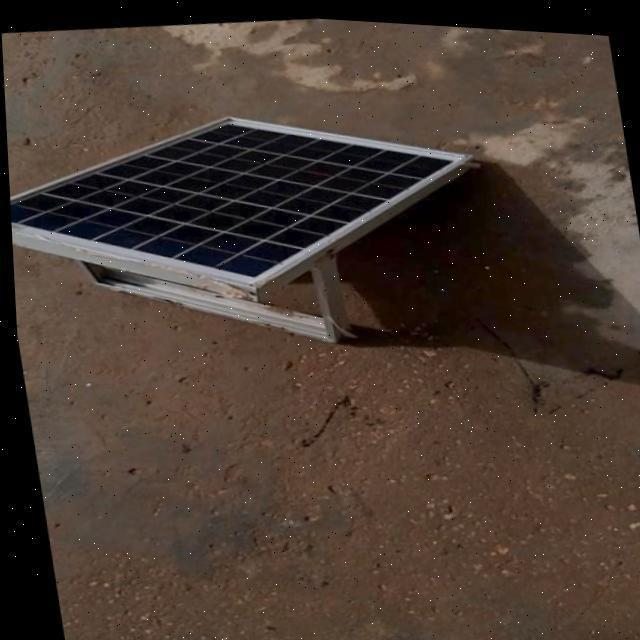Normal Solar Panel: (3, 78, 490, 334)
